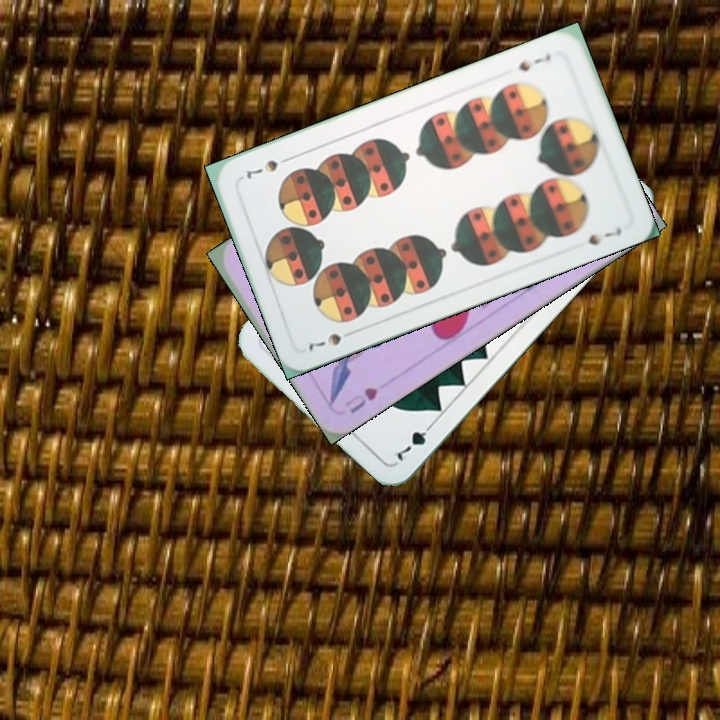G7: (390, 417, 438, 464)
HU: (340, 383, 381, 416)
S7: (304, 325, 359, 354), (511, 49, 553, 74)
